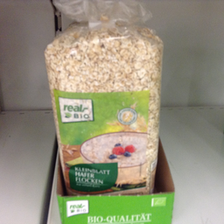cereal: (45, 24, 164, 197)
